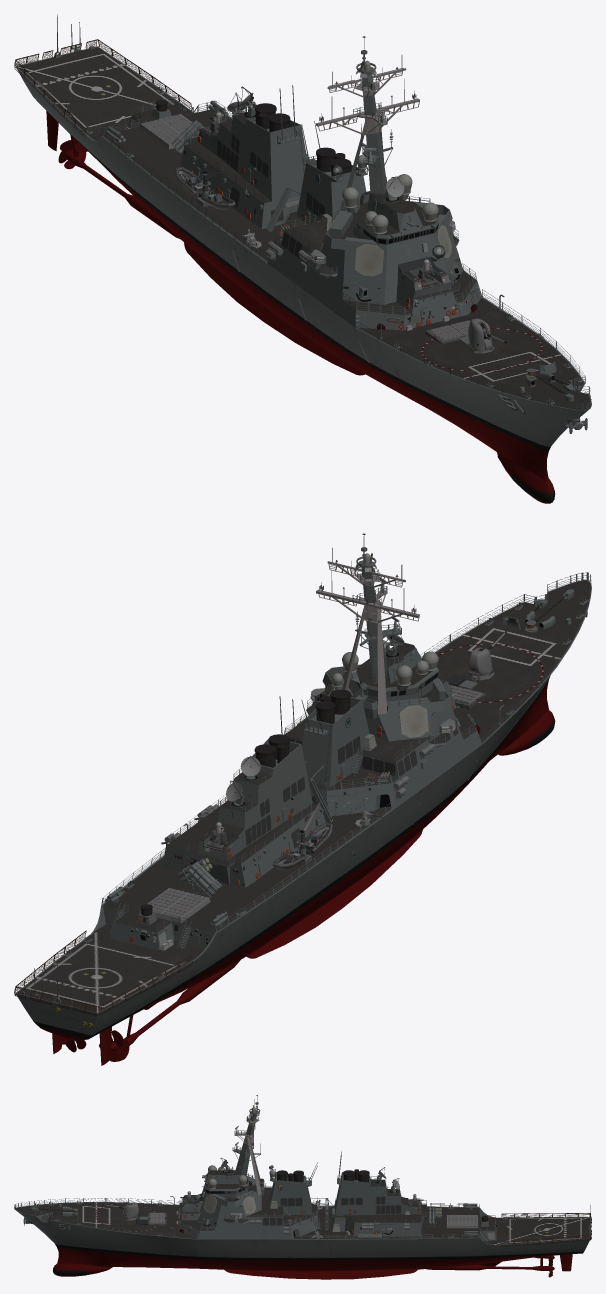
The model's file is ddg51.glb.
3 renders of one model, top to bottom at view 1: azimuth 30°, elevation 25°; view 2: azimuth 150°, elevation 25°; view 3: azimuth 270°, elevation 25°, orthographic. The views are drawn at different scales.
Visible parts, largest first — view 1: DDG51_5, RHIB_final_9, SPG62_FINAL_10; view 2: DDG51_5, SPG62_FINAL_10, RHIB_final_9; view 3: DDG51_5, SPG62_FINAL_10.
Part boxes in pixels (box(x1,y1,x2,y2)): DDG51_5: box(14, 14, 591, 503); RHIB_final_9: box(175, 167, 235, 209); SPG62_FINAL_10: box(227, 86, 404, 202); DDG51_5: box(14, 533, 591, 1065); SPG62_FINAL_10: box(226, 624, 404, 807); RHIB_final_9: box(272, 822, 332, 869); DDG51_5: box(14, 1095, 591, 1279); SPG62_FINAL_10: box(220, 1158, 399, 1193).
Size of the model in its own units: 24.73 by 53.45 by 154.
5 materials, 5 textured.
